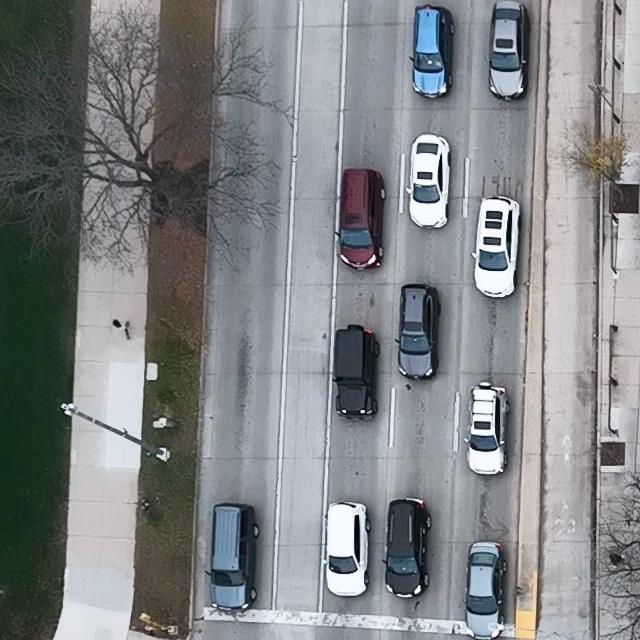car: (204, 501, 260, 611), (334, 169, 388, 272), (471, 195, 521, 298), (383, 496, 433, 599), (329, 324, 381, 419), (323, 501, 372, 599), (461, 540, 509, 640), (408, 4, 456, 100), (464, 381, 512, 476), (484, 1, 529, 101), (395, 283, 441, 380), (405, 133, 451, 229)
